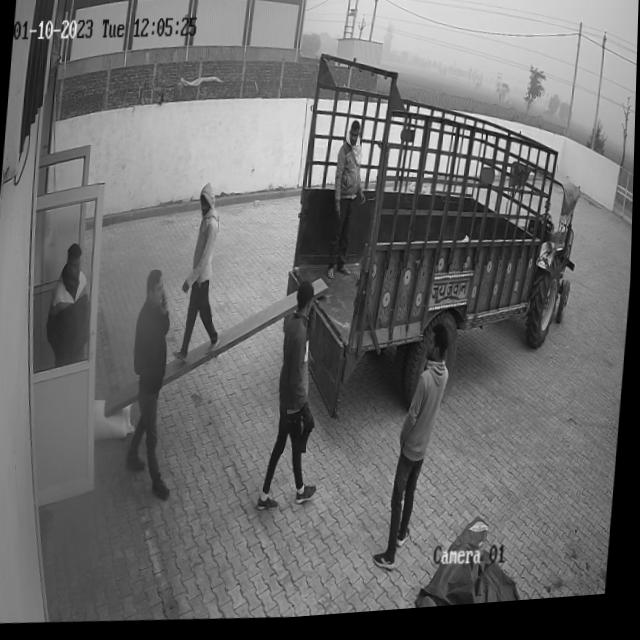sack: (94, 396, 140, 445)
